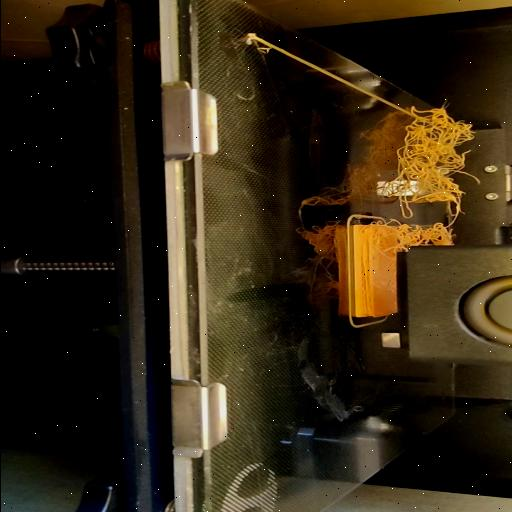spaghetti: (384, 104, 480, 216), (389, 216, 458, 248)
